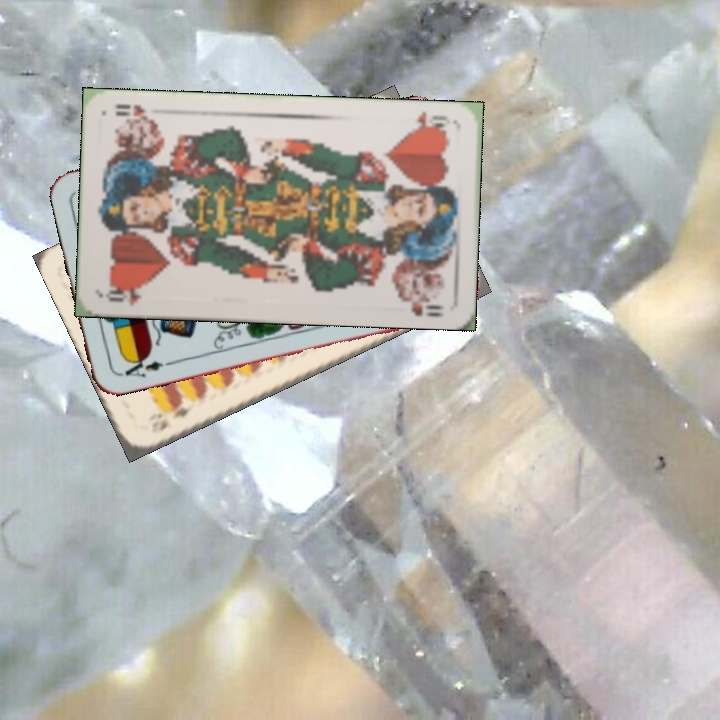E10: (155, 395, 196, 434)
EA: (115, 352, 173, 381)
HO: (403, 107, 453, 135), (101, 282, 145, 308)
